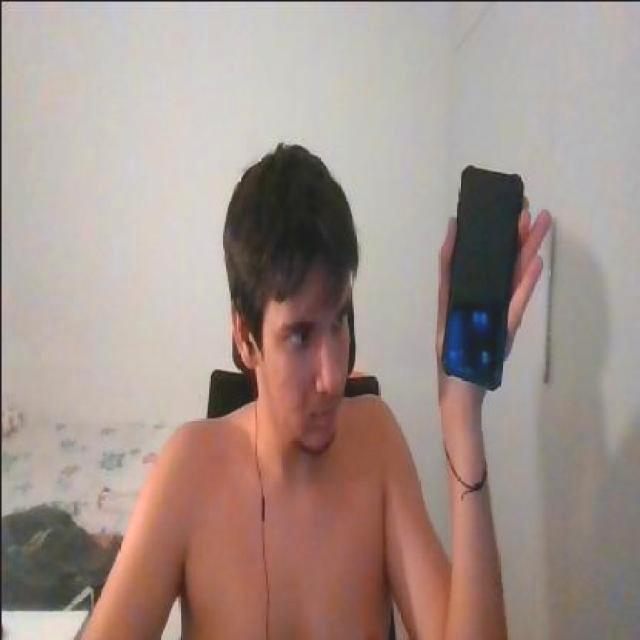phone: (441, 162, 524, 398)
